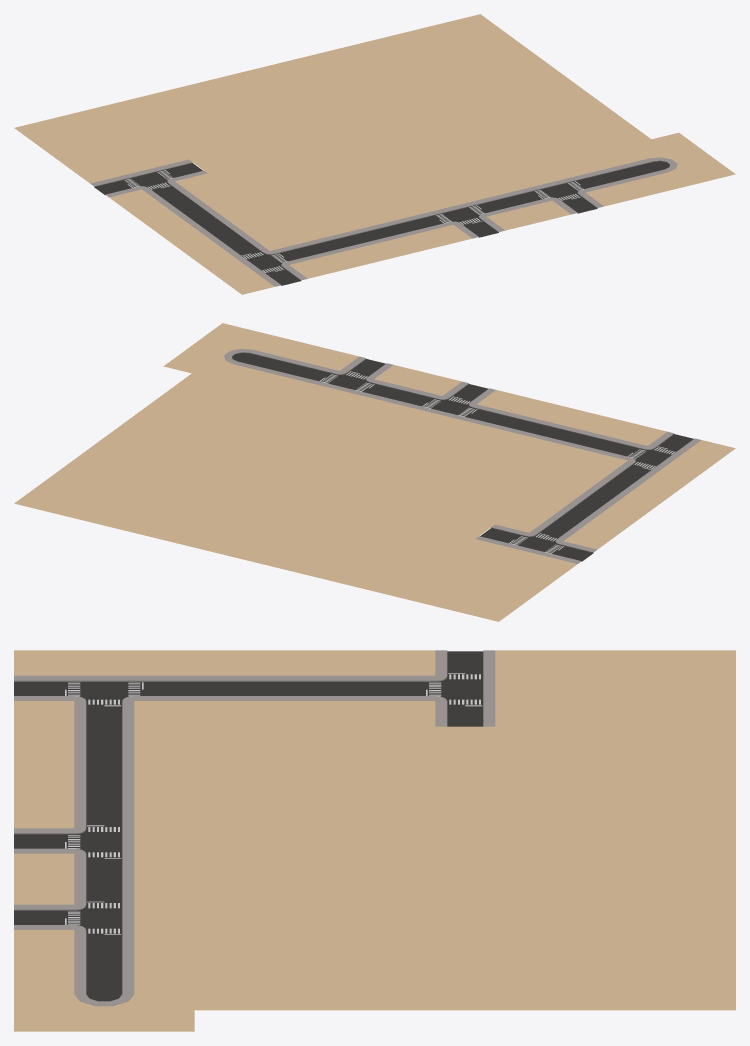
Rendered from road-zone-construction.glb.
3 views of the same model, one above another, from view 1: azimuth 30°, elevation 25°; view 2: azimuth 150°, elevation 25°; view 3: azimuth 270°, elevation 25° (orthographic). The views are drawn at different scales.
Visible parts, largest first — view 1: tile-plain-nb.031, tile-road-intersection-t-nb.006, tile-road-intersection-t-nb.004, tile-road-intersection-t-nb.005, tile-road-end-nb.001, tile-road-straight-nb.005, tile-plain-nb.029, tile-road-intersection-t-nb.001, tile-road-straight-nb.011; view 2: tile-plain-nb.031, tile-road-end-nb.001, tile-road-straight-nb.005, tile-plain-nb.029, tile-road-intersection-t-nb.001, tile-road-straight-nb.011, tile-road-intersection-t-nb.004, tile-road-intersection-t-nb.005, tile-road-intersection-t-nb.006; view 3: tile-plain-nb.031, tile-road-intersection-t-nb.001, tile-road-intersection-t-nb.005, tile-plain-nb.029, tile-road-straight-nb.005, tile-road-straight-nb.011, tile-road-intersection-t-nb.006, tile-road-end-nb.001, tile-road-intersection-t-nb.004.
Boxes of the visible parts, x1,y1,x2,y2 form: tile-plain-nb.031: (113, 14, 650, 228); tile-road-intersection-t-nb.006: (71, 145, 226, 211); tile-road-intersection-t-nb.004: (383, 181, 537, 246); tile-road-intersection-t-nb.005: (481, 157, 636, 222); tile-road-end-nb.001: (580, 132, 735, 198); tile-road-straight-nb.005: (128, 187, 283, 252); tile-plain-nb.029: (14, 104, 169, 169); tile-road-intersection-t-nb.001: (185, 229, 340, 294); tile-road-straight-nb.011: (284, 205, 438, 270); tile-plain-nb.031: (14, 372, 573, 596); tile-road-end-nb.001: (163, 323, 324, 391); tile-road-straight-nb.005: (515, 466, 676, 534); tile-plain-nb.029: (396, 553, 557, 621); tile-road-intersection-t-nb.001: (574, 423, 735, 491); tile-road-straight-nb.011: (472, 398, 632, 466); tile-road-intersection-t-nb.004: (369, 373, 530, 441); tile-road-intersection-t-nb.005: (266, 348, 427, 416); tile-road-intersection-t-nb.006: (456, 510, 616, 578); tile-plain-nb.031: (189, 726, 735, 1010); tile-road-intersection-t-nb.001: (14, 650, 194, 727); tile-road-intersection-t-nb.005: (14, 879, 194, 956); tile-plain-nb.029: (555, 650, 735, 726); tile-road-straight-nb.005: (194, 650, 374, 726); tile-road-straight-nb.011: (14, 726, 194, 803); tile-road-intersection-t-nb.006: (375, 650, 555, 726); tile-road-end-nb.001: (14, 955, 194, 1031); tile-road-intersection-t-nb.004: (14, 803, 194, 880).
Bounding box in the file's own units: 150 × 0.2002 × 120.
